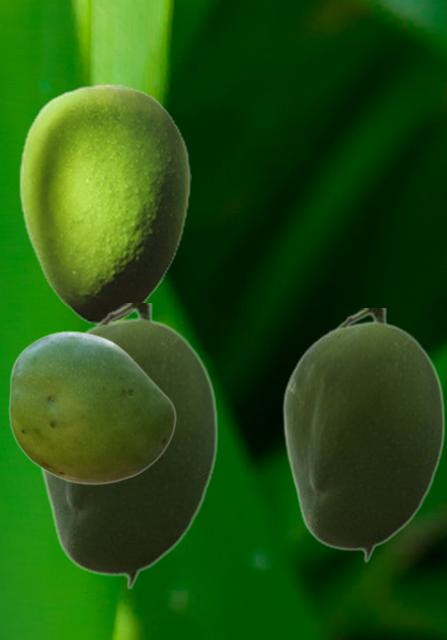green_mango: (37, 303, 217, 589), (281, 308, 444, 562), (18, 83, 190, 323), (8, 330, 175, 484)
